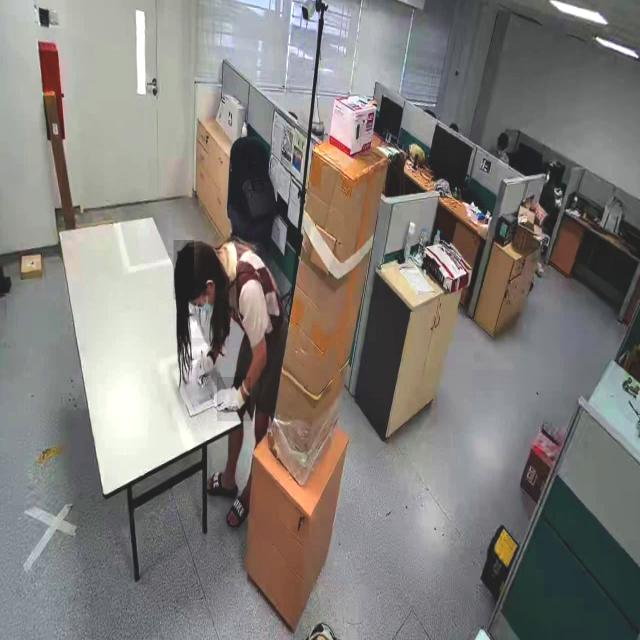face_mask: (190, 289, 224, 338)
hand_glove: (217, 377, 251, 422), (192, 347, 216, 384)
head_nohelmet: (173, 240, 194, 300)
person: (180, 227, 292, 549)
